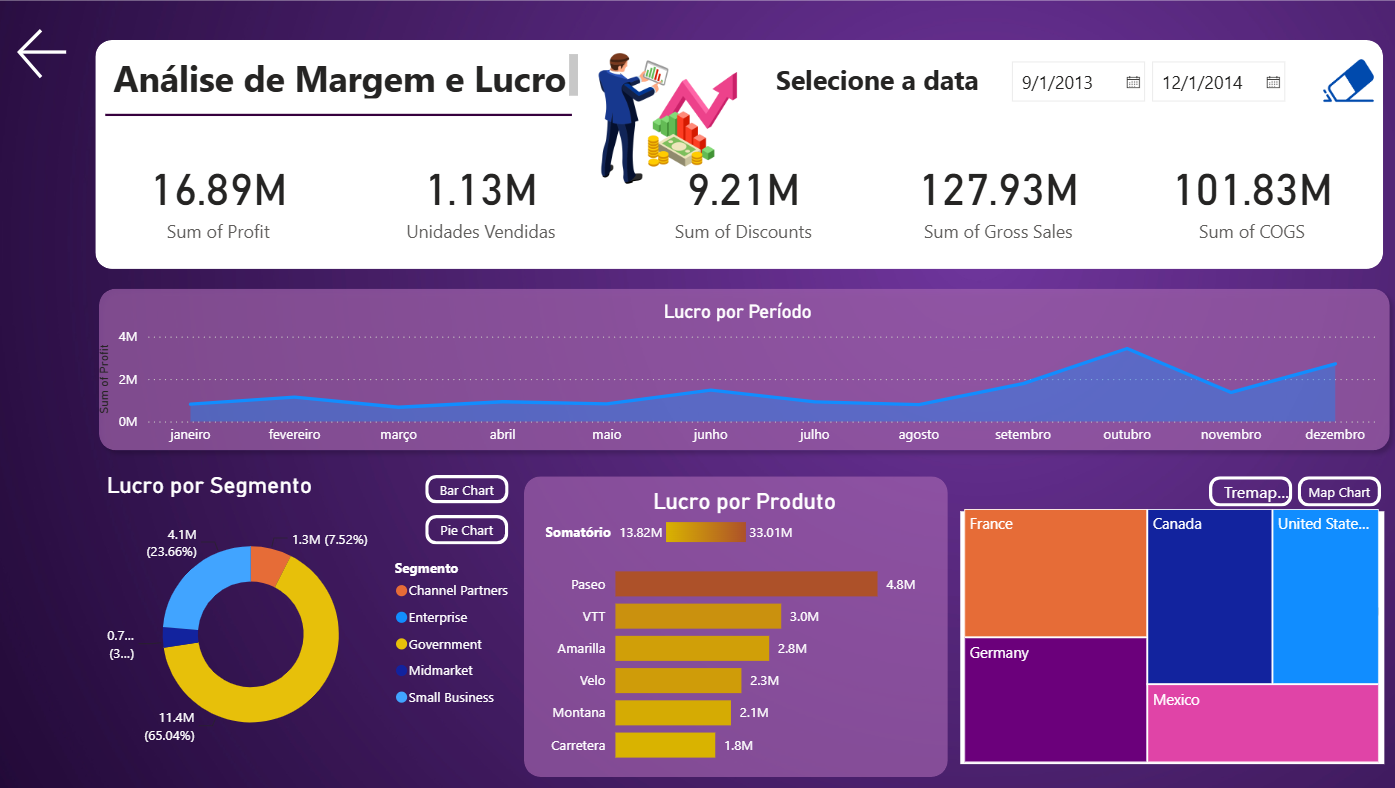

Layout of this report page (visuals, bound fields, positions):
{"tool":"powerbi","page":{"name":"Analise de Lucro","canvas":[1280,720],"ordinal":2},"visuals":[{"type":"image","title":"fundo_purple","box":[0,0,1280.3,720],"z":0},{"type":"shape","box":[95.3,41,1161.3,206.6],"z":0,"group":"g4"},{"type":"shape","box":[90.5,255.5,1181.8,163.7],"z":0,"group":"g3"},{"type":"donutChart","title":"Lucro por Segmento","fields":{"Category":["financials.Segment"],"Y":["Sum(financials.Profit)"]},"box":[102,429.7,380.5,271.3],"z":0,"group":"g2"},{"type":"map","title":"Sales x Country","fields":{"Category":["financials.Country"],"Size":["Sum(financials.Profit)"]},"box":[875.8,465.6,382,228.1],"z":0,"group":"g1"},{"type":"actionButton","title":"Botão - Next","box":[19.8,24.4,58,56.3],"z":1000},{"type":"shape","box":[104.8,93,420.9,31.4],"z":1000,"group":"g4"},{"type":"areaChart","title":"Lucro por Período","fields":{"Category":["financials.Date.Variation.Hierarquia de datas.Trimestre","financials.Date.Variation.Hierarquia de datas.Mês"],"Y":["Sum(financials.Profit)"]},"box":[94.3,274.7,1163.2,139.7],"z":1000,"group":"g3"},{"type":"treemap","title":"Sales x Country","fields":{"Group":["financials.Country"],"Values":["Sum(financials.Profit)"]},"box":[874.4,458.3,383.7,238.4],"z":1000,"group":"g1"},{"type":"slicer","fields":{"Values":["financials.Date"]},"box":[909.4,50.3,272.2,55.6],"z":2000,"group":"g4"},{"type":"actionButton","title":"Botão - bar","box":[393.4,432.9,75.1,25.6],"z":2000,"group":"g2"},{"type":"shape","box":[482.9,433.4,382.2,271.3],"z":2000},{"type":"actionButton","title":"Botão - map","box":[1179.5,433.7,75.1,27.3],"z":2000,"group":"g1"},{"type":"textbox","box":[704.1,56,199.6,45.6],"z":3000,"group":"g4"},{"type":"group","id":"g1","title":"Sales x país","box":[874.4,433.7,383.7,262.8],"z":3000},{"type":"actionButton","title":"Botão - tremap","box":[1099.3,433.7,75.1,27.3],"z":3000,"group":"g1"},{"type":"actionButton","title":"Botão -pie","box":[393.2,469.1,74.8,26.6],"z":3000,"group":"g2"},{"type":"card","fields":{"Values":["Sum(financials.Units Sold)"]},"box":[337.8,130.1,211,105.5],"z":4000,"group":"g4"},{"type":"clusteredBarChart","title":"Lucro por Produto","fields":{"Category":["financials.Product"],"Y":["Sum(financials.Profit)"]},"box":[496.5,443.6,368.5,261.1],"z":4000},{"type":"textbox","box":[107.1,49,429.1,50],"z":5000,"group":"g4"},{"type":"group","id":"g2","title":"Sales x Segmento","box":[94.9,429.7,387.6,271.8],"z":5000},{"type":"actionButton","box":[1195.9,54.6,59.9,51.3],"z":6000,"group":"g4"},{"type":"group","id":"g3","title":"Perspectiva temporal das vendas","box":[90.5,255.5,1181.8,163.7],"z":6000},{"type":"group","id":"g4","title":"Filtro por data","box":[95.3,41,1161.3,206.6],"z":7000},{"type":"card","fields":{"Values":["Sum(financials.Gross Sales)"]},"box":[803.9,130.1,211,105.5],"z":7000,"group":"g4"},{"type":"actionButton","box":[1196.5,61.2,58.4,40.3],"z":7001},{"type":"image","title":"clean","box":[1195.9,50.3,59.9,55.6],"z":8000,"group":"g4"},{"type":"card","fields":{"Values":["Sum(financials.Discounts)"]},"box":[574.4,130.1,211,105.5],"z":9000,"group":"g4"},{"type":"card","fields":{"Values":["Sum(financials.COGS)"]},"box":[1033.4,130.1,211,105.5],"z":10000,"group":"g4"},{"type":"card","fields":{"Values":["Sum(financials.Profit)"]},"box":[101.2,130.1,211,105.5],"z":11000,"group":"g4"},{"type":"image","box":[516.4,43.2,224.4,137.2],"z":12000,"group":"g4"}]}

Visuals, with their boxes in screenshot pixels (x1, y1, x2, y2), scaled from the page's 1280x720 canvas onto the 1395x788 screenshot:
"fundo_purple" image: 0/0/1394/787
shape: 104/45/1369/271
shape: 99/280/1387/459
"Lucro por Segmento" donutChart: 111/470/526/767
"Sales x Country" map: 954/510/1371/759
"Botão - Next" actionButton: 22/27/85/88
shape: 114/102/573/136
"Lucro por Período" areaChart: 103/301/1370/454
"Sales x Country" treemap: 953/502/1371/762
slicer - financials.Date: 991/55/1288/116
"Botão - bar" actionButton: 429/474/511/502
shape: 526/474/943/771
"Botão - map" actionButton: 1285/475/1367/505
textbox: 767/61/985/111
"Sales x país" group: 953/475/1371/762
"Botão - tremap" actionButton: 1198/475/1280/505
"Botão -pie" actionButton: 429/513/510/543
card - Sum(financials.Units Sold): 368/142/598/258
"Lucro por Produto" clusteredBarChart: 541/485/943/771
textbox: 117/54/584/108
"Sales x Segmento" group: 103/470/526/768
actionButton: 1303/60/1369/116
"Perspectiva temporal das vendas" group: 99/280/1387/459
"Filtro por data" group: 104/45/1369/271
card - Sum(financials.Gross Sales): 876/142/1106/258
actionButton: 1304/67/1368/111
"clean" image: 1303/55/1369/116
card - Sum(financials.Discounts): 626/142/856/258
card - Sum(financials.COGS): 1126/142/1356/258
card - Sum(financials.Profit): 110/142/340/258
image: 563/47/807/197
